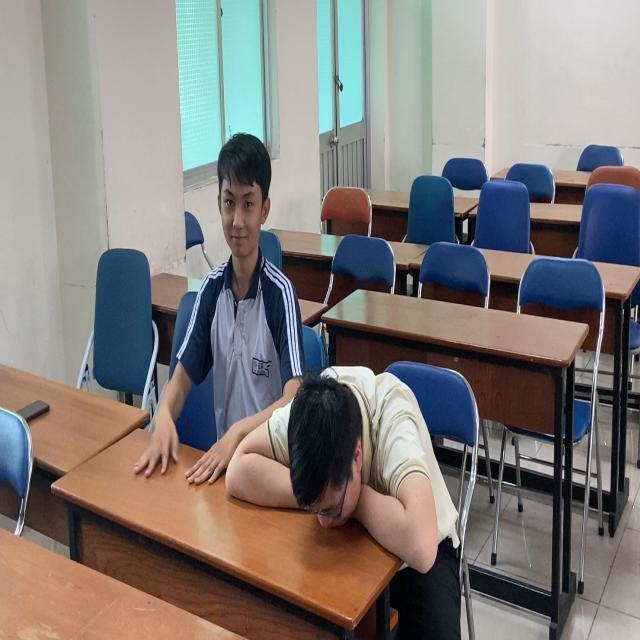sleep: (216, 358, 453, 573)
